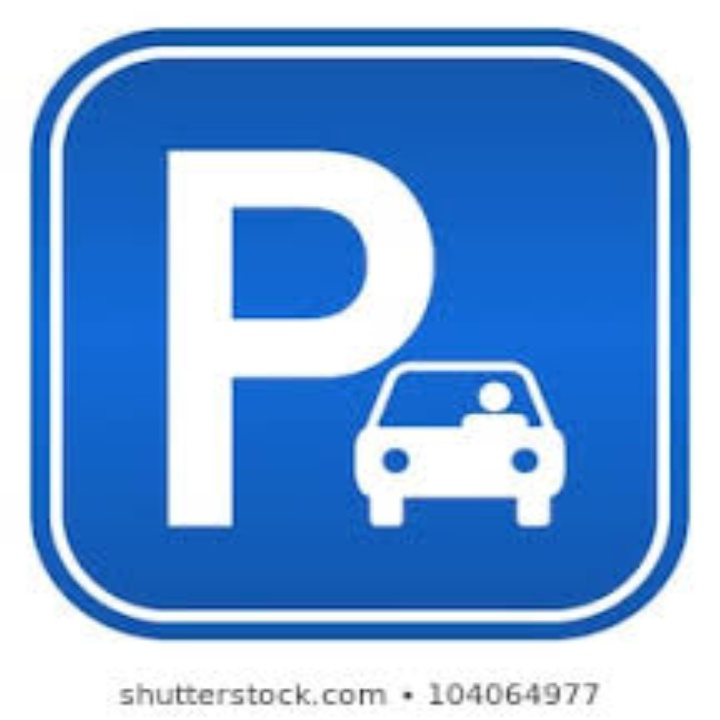parking: (158, 142, 445, 538)
